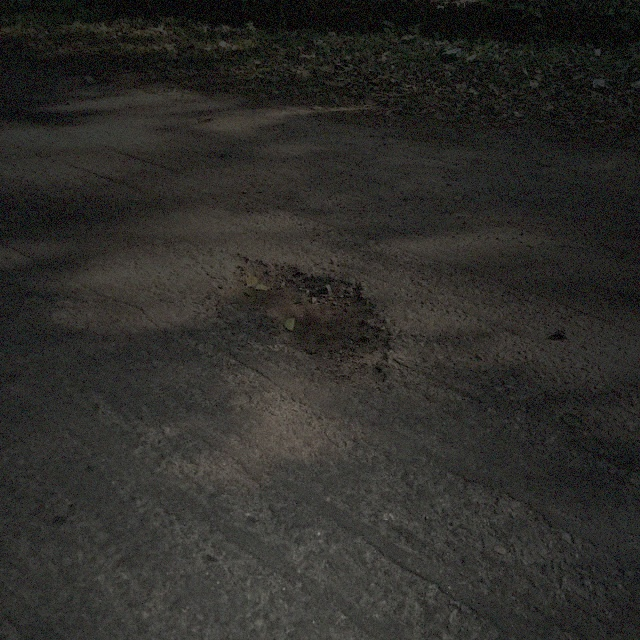pothole: (215, 248, 398, 388)
